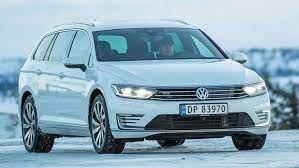license-plates: (180, 102, 229, 115)
